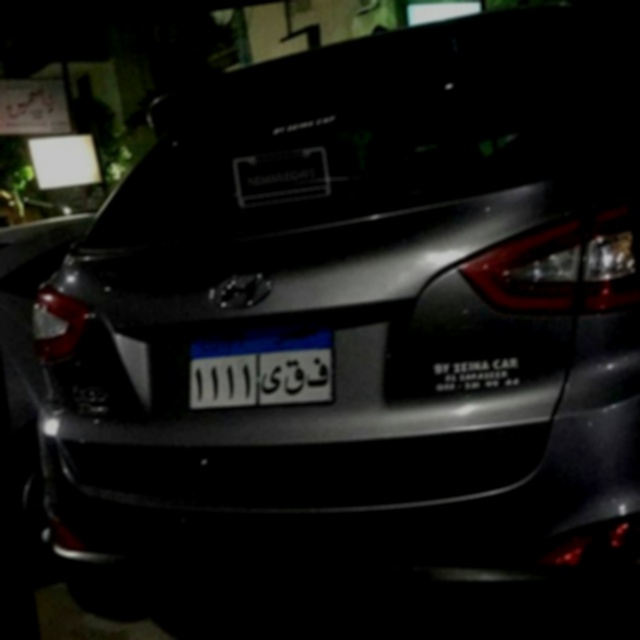License Plate: (170, 300, 350, 431)
